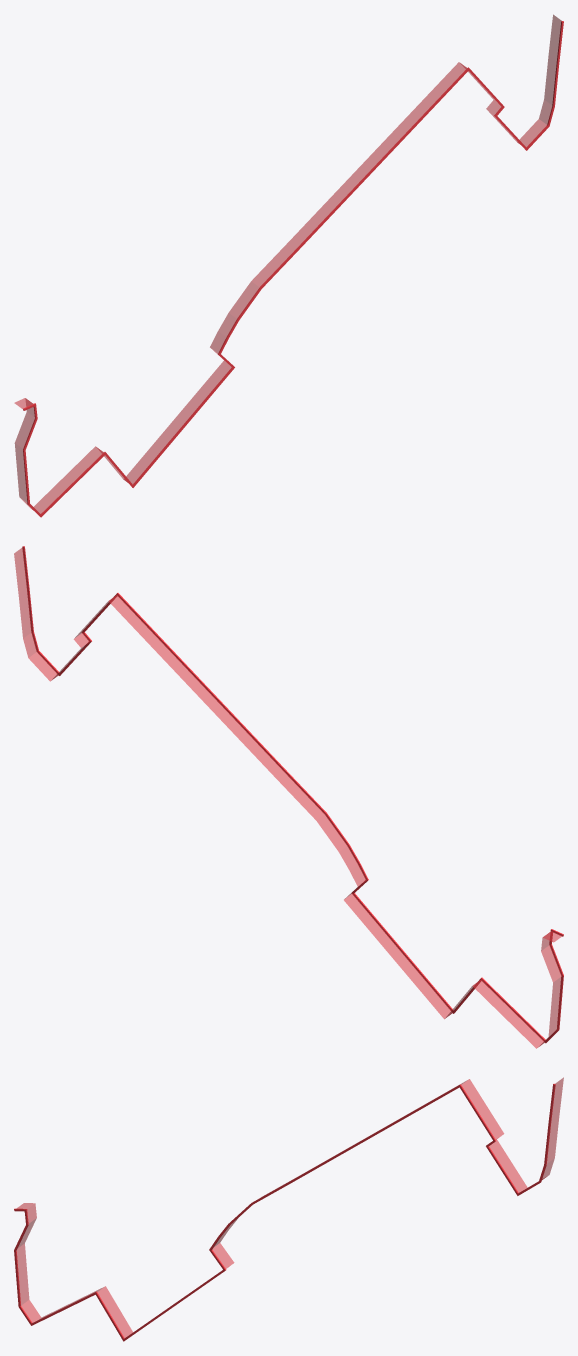
The model's file is busLineRed.glb.
3 views of the same model, one above another, from view 1: azimuth 30°, elevation 25°; view 2: azimuth 150°, elevation 25°; view 3: azimuth 330°, elevation 25° (orthographic).
Parts seen in each view (by area): view 1: red, redLine; view 2: red, redLine; view 3: red, redLine.
Part boxes in pixels (bbox=[...]): red: bbox=[14, 14, 561, 513]; redLine: bbox=[23, 21, 563, 517]; red: bbox=[14, 547, 562, 1048]; redLine: bbox=[22, 546, 563, 1043]; red: bbox=[16, 1077, 563, 1337]; redLine: bbox=[14, 1083, 555, 1341].
Size of the model in its own units: 584 by 381 by 18.66.
